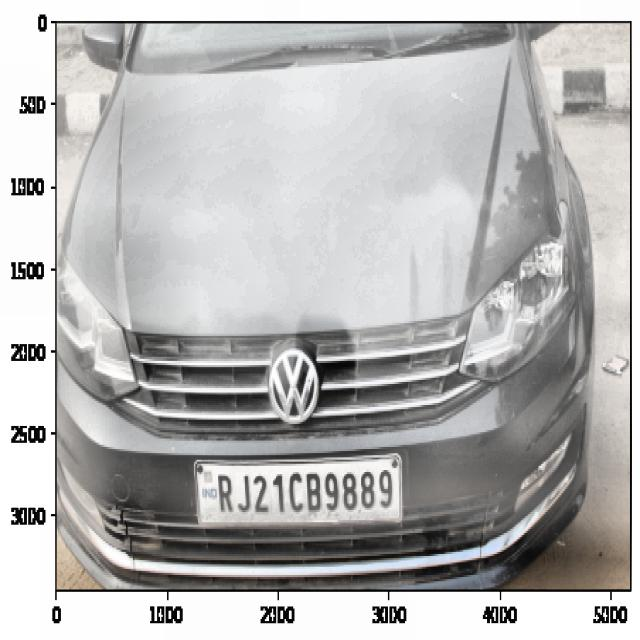license_plate: (212, 462, 400, 525)
